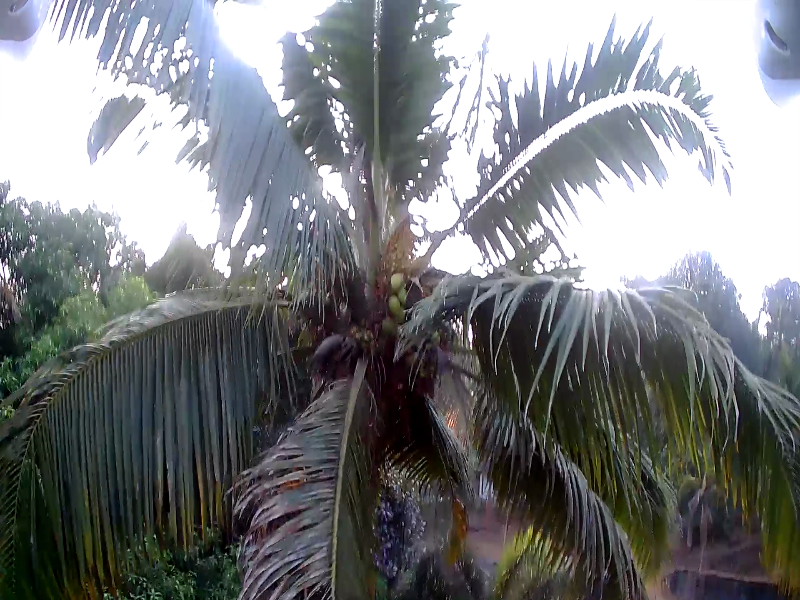coconut: (388, 269, 405, 294), (381, 297, 401, 316), (430, 331, 447, 349), (353, 330, 374, 344), (395, 291, 411, 308), (376, 316, 392, 333)
